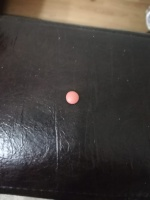Dolorex: (65, 90, 80, 105)
